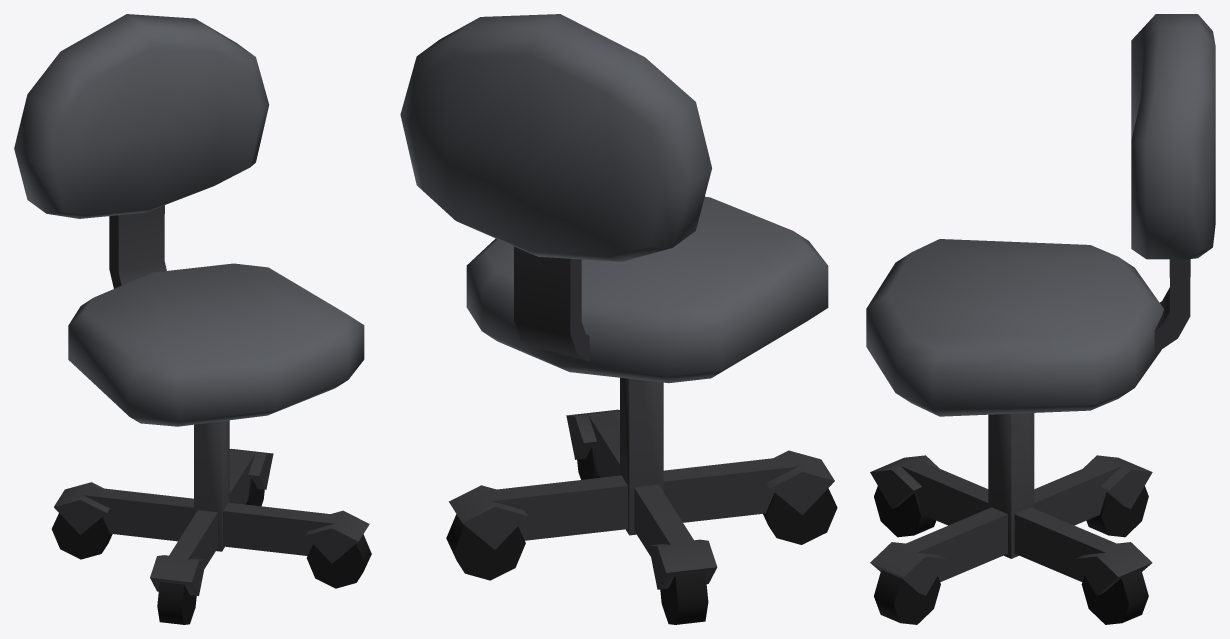
The model's file is officechair.fbx.
The picture shows the model from 3 angles, left to right: view 1: azimuth 30°, elevation 25°; view 2: azimuth 150°, elevation 25°; view 3: azimuth 270°, elevation 25°; orthographic projection. The views are drawn at different scales.
Visible parts, largest first — view 1: OfficeChair-01.001, OfficeChair-01; view 2: OfficeChair-01.001, OfficeChair-01; view 3: OfficeChair-01.001, OfficeChair-01.
Boxes of the visible parts, <box> form: OfficeChair-01.001: <box>14,14,364,426</box>; OfficeChair-01: <box>51,420,371,624</box>; OfficeChair-01.001: <box>400,14,828,383</box>; OfficeChair-01: <box>446,377,837,624</box>; OfficeChair-01.001: <box>866,14,1215,416</box>; OfficeChair-01: <box>870,413,1152,624</box>.
Size of the model in its own units: 50.65 by 101 by 58.24.
